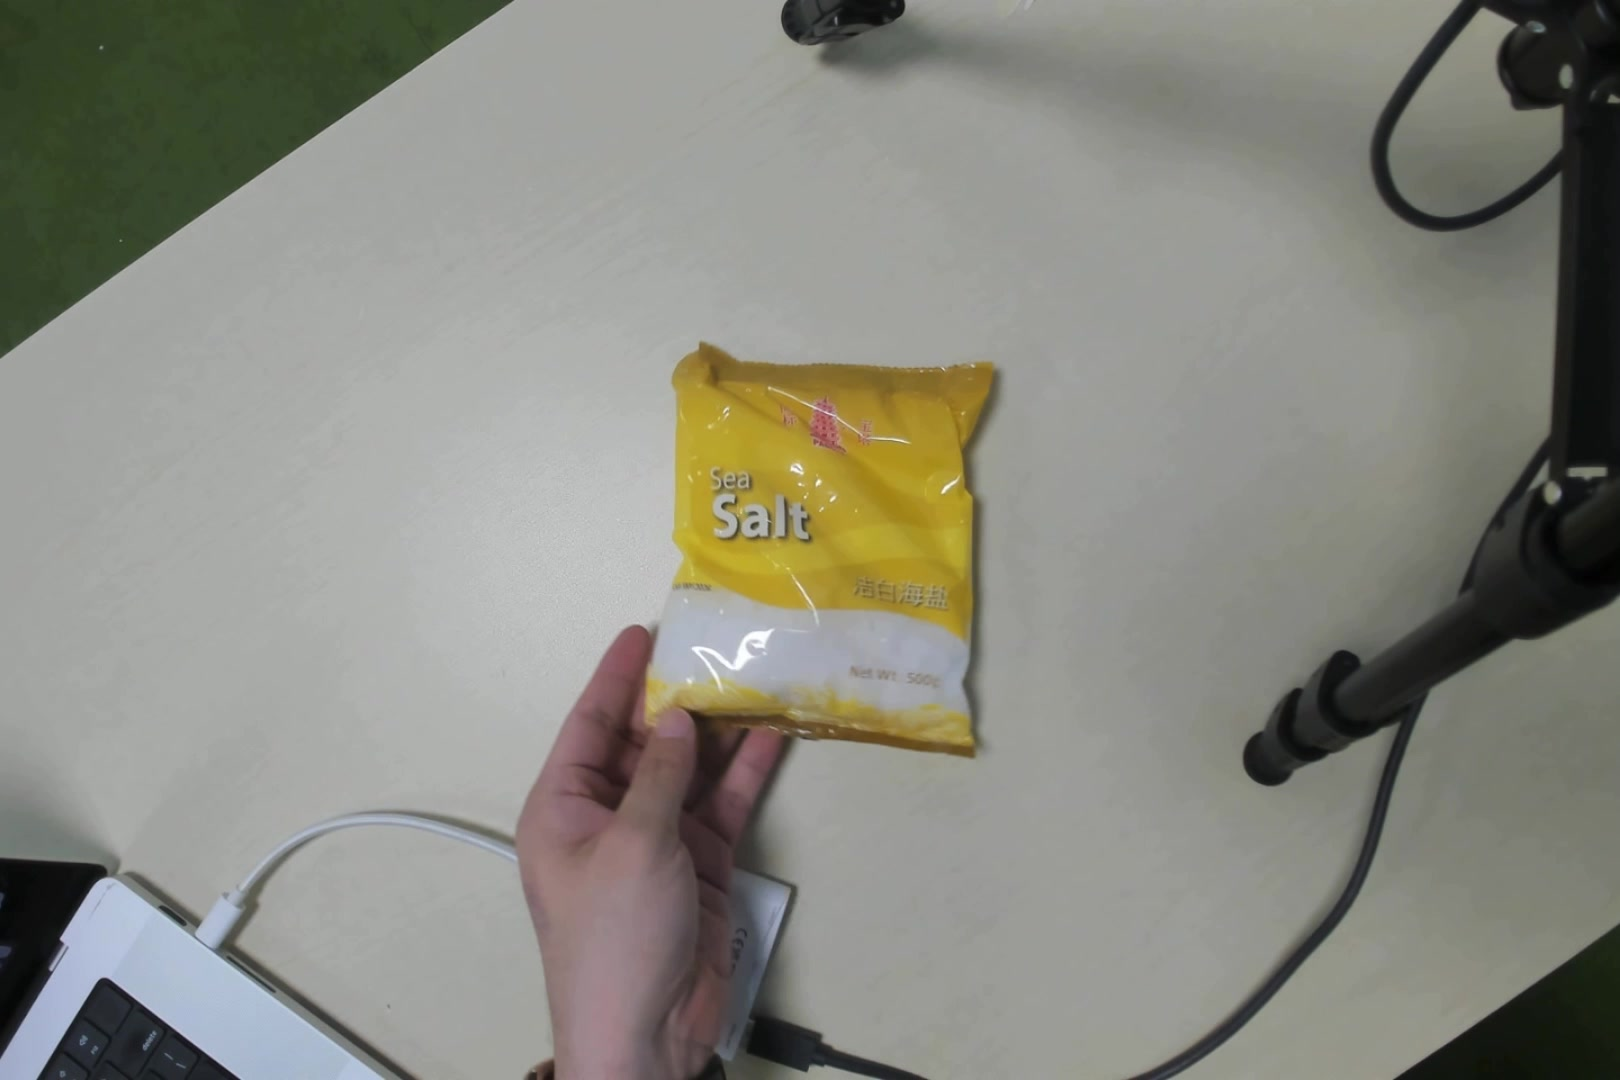Salt_500-599g_Halal_NonHealthy: (652, 337, 990, 755)
